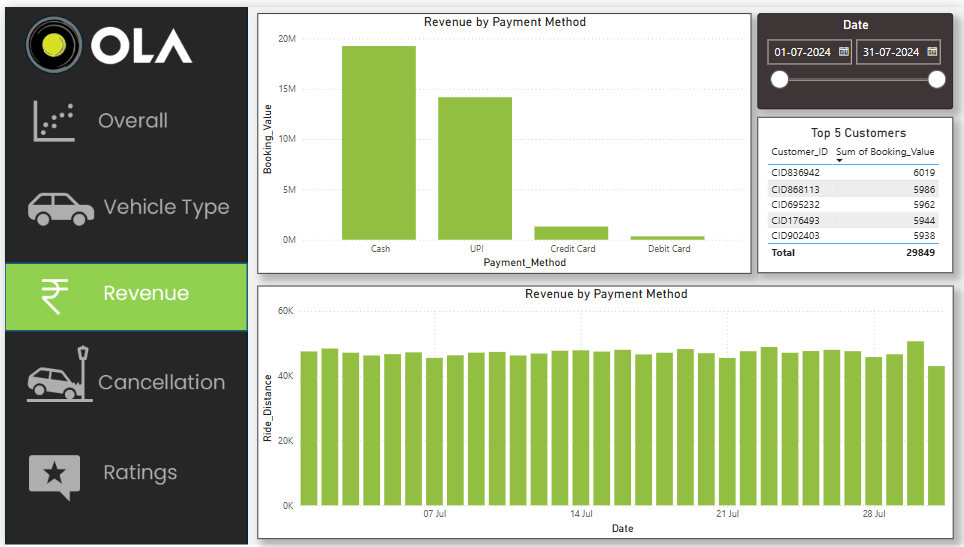

This screenshot's page, from the dashboard's own definition file:
{"tool":"powerbi","page":{"name":"Revenue","canvas":[1280,720],"ordinal":2},"visuals":[{"type":"actionButton","box":[0,110,323.8,92.5],"z":0},{"type":"actionButton","box":[0,225.6,323.3,91.7],"z":1000},{"type":"actionButton","box":[0,445,323.8,92.5],"z":2000},{"type":"actionButton","box":[0,582.5,323.8,92.5],"z":3000},{"type":"columnChart","title":"Revenue by Payment Method","fields":{"Y":["Sum(July.Booking_Value)"],"Category":["July.Payment_Method"]},"box":[336.5,8.1,658.1,347.3],"z":4000},{"type":"columnChart","title":"Revenue by Payment Method","fields":{"Y":["Sum(July.Ride_Distance)"],"Category":["July.Date"]},"box":[336.5,371.6,928.4,337.8],"z":5000},{"type":"slicer","title":"Date","fields":{"Values":["July.Date"]},"box":[1004.1,8.1,260.8,128.4],"z":6000},{"type":"tableEx","title":"Top 5 Customers","fields":{"Values":["July.Customer_ID","Sum(July.Booking_Value)"]},"box":[1004.1,147.3,260.8,208.1],"z":7000}]}

Visuals, with their boxes in screenshot pixels (x1, y1, x2, y2), scaled from the page's 1280x720 canvas onto the 964x547 screenshot:
actionButton: [0, 84, 244, 154]
actionButton: [0, 171, 243, 241]
actionButton: [0, 338, 244, 408]
actionButton: [0, 443, 244, 513]
"Revenue by Payment Method" columnChart: [253, 6, 749, 270]
"Revenue by Payment Method" columnChart: [253, 282, 953, 539]
"Date" slicer: [756, 6, 953, 104]
"Top 5 Customers" tableEx: [756, 112, 953, 270]
